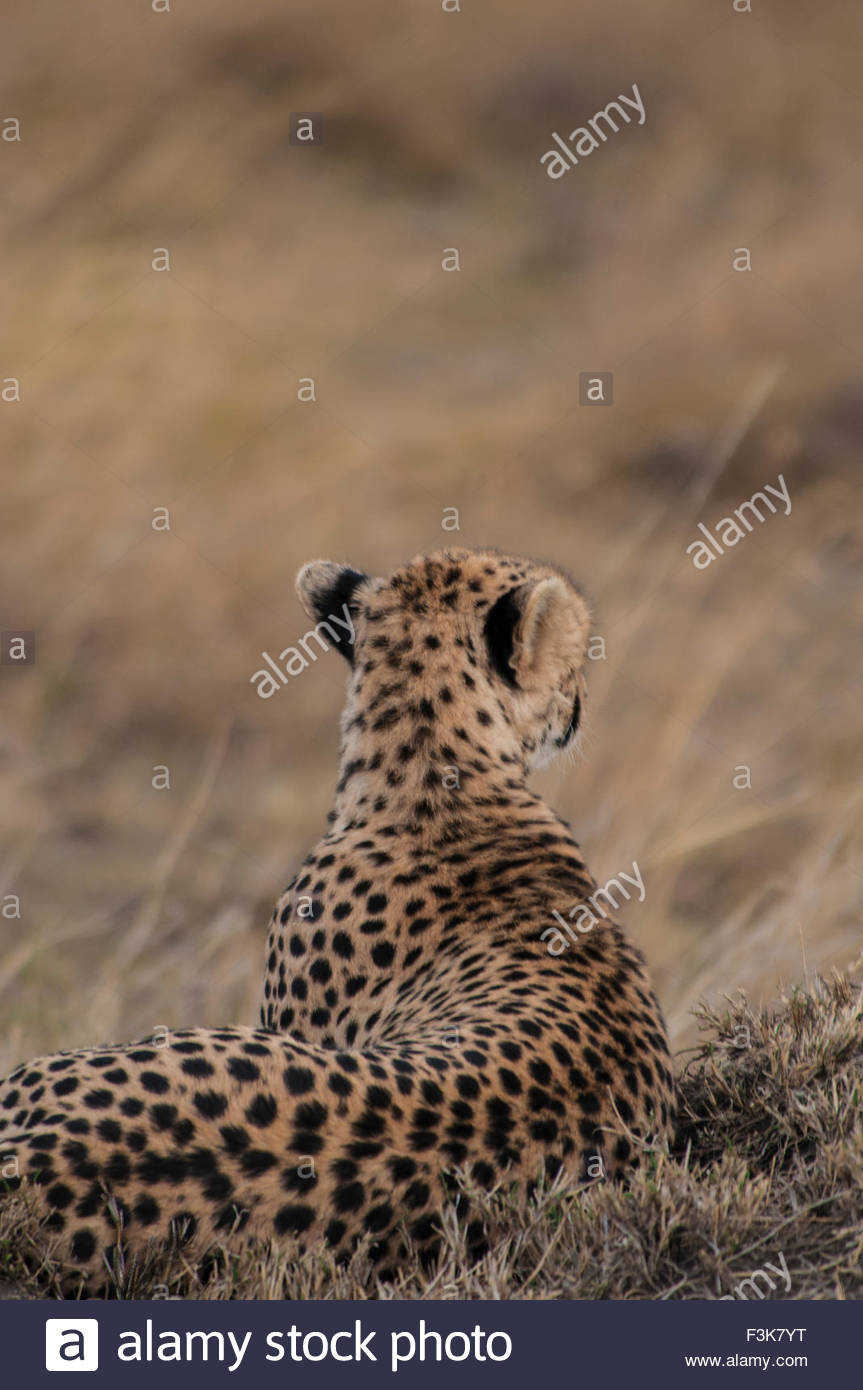Cheetah: (1, 558, 689, 1263)
